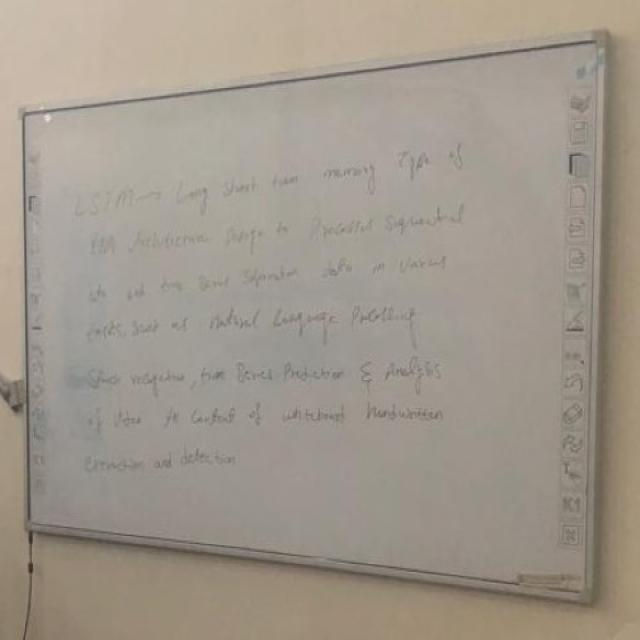White-board: (20, 36, 603, 595)
